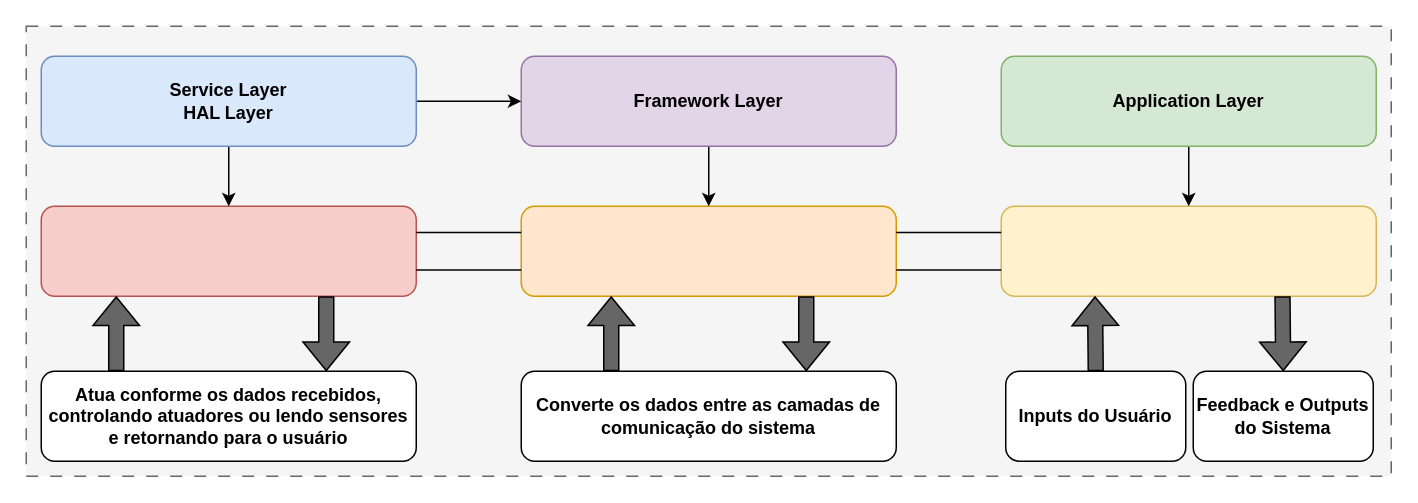
Some shapes in this 1418 by 503 pixel diagram are drawn without their labels. The centre of each missing label's shape, as x and y in pixels:
"Comunicação" goes at point 708,250.
"Interface do Usuário" goes at point 1188,250.
"Processamento de Dados" goes at point 228,250.
